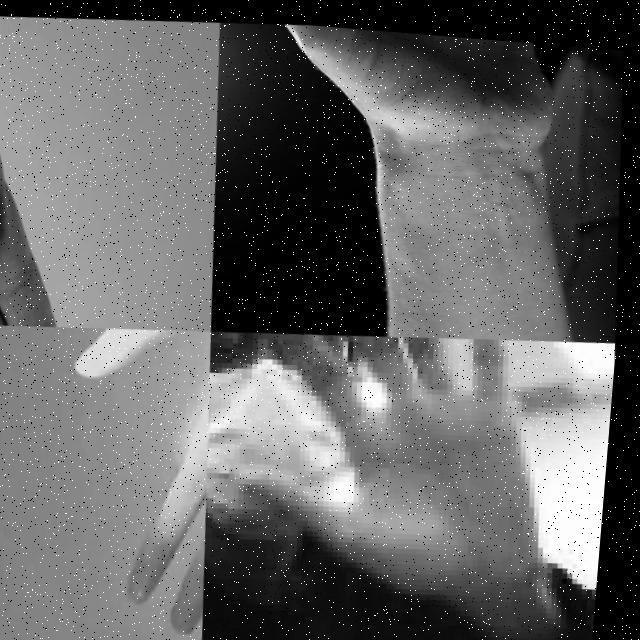no-gloves: (227, 312, 573, 610), (36, 317, 232, 640), (212, 14, 598, 170), (0, 12, 97, 331)
